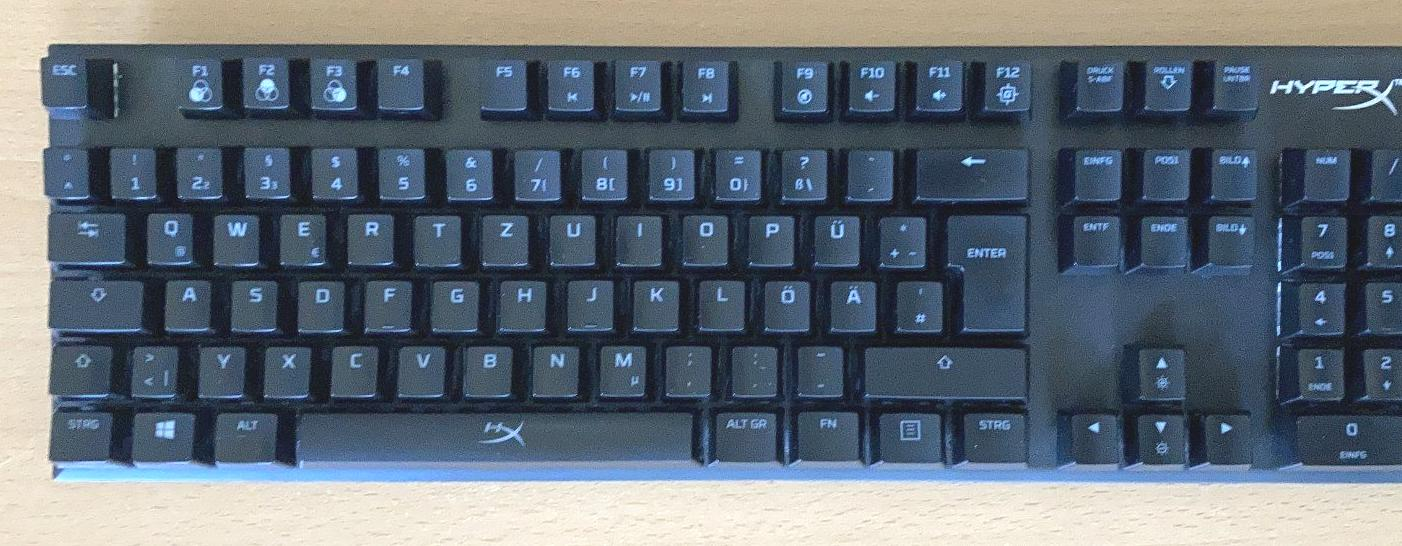0: (710, 142, 763, 200)
1: (105, 141, 157, 197)
2: (171, 141, 223, 198)
3: (239, 141, 291, 197)
4: (307, 141, 359, 197)
5: (375, 142, 427, 198)
6: (442, 142, 495, 199)
7: (510, 143, 561, 199)
8: (576, 142, 629, 201)
9: (643, 142, 696, 199)
a: (160, 274, 211, 329)
accent: (842, 143, 893, 199)
ae: (825, 275, 877, 330)
alt-left: (210, 407, 278, 461)
altgr-right: (710, 405, 778, 460)
b: (460, 339, 514, 395)
c: (327, 340, 379, 395)
caret: (40, 144, 89, 195)
comma: (661, 339, 711, 394)
d: (294, 275, 345, 330)
del: (911, 142, 1027, 198)
e: (275, 208, 326, 263)
enter: (942, 208, 1027, 331)
f: (362, 274, 413, 329)
g: (428, 275, 480, 329)
h: (495, 274, 547, 329)
hash: (891, 274, 942, 331)
i: (612, 210, 663, 263)
j: (563, 274, 613, 329)
k: (630, 273, 680, 329)
keyboard: (25, 38, 1402, 487)
l: (694, 274, 745, 329)
less: (126, 339, 176, 393)
m: (594, 339, 647, 396)
minus: (793, 340, 843, 394)
n: (528, 339, 580, 395)
o: (677, 209, 729, 263)
oe: (760, 274, 811, 330)
p: (745, 210, 795, 263)
plus: (875, 210, 926, 265)
point: (728, 340, 778, 393)
q: (141, 207, 194, 263)
r: (343, 208, 395, 263)
s: (227, 275, 278, 329)
shift-left: (46, 341, 111, 393)
shift-lock: (45, 276, 143, 328)
shift-right: (859, 343, 1025, 396)
space: (288, 406, 698, 461)
ss: (776, 143, 828, 199)
strg-left: (46, 406, 112, 458)
strg-right: (958, 406, 1028, 461)
t: (410, 209, 462, 264)
tab: (45, 208, 125, 260)
u: (545, 209, 597, 264)
ue: (810, 210, 860, 265)
v: (394, 339, 446, 394)
w: (209, 208, 260, 264)
x: (261, 340, 311, 395)
y: (195, 340, 245, 395)
z: (477, 210, 529, 264)
